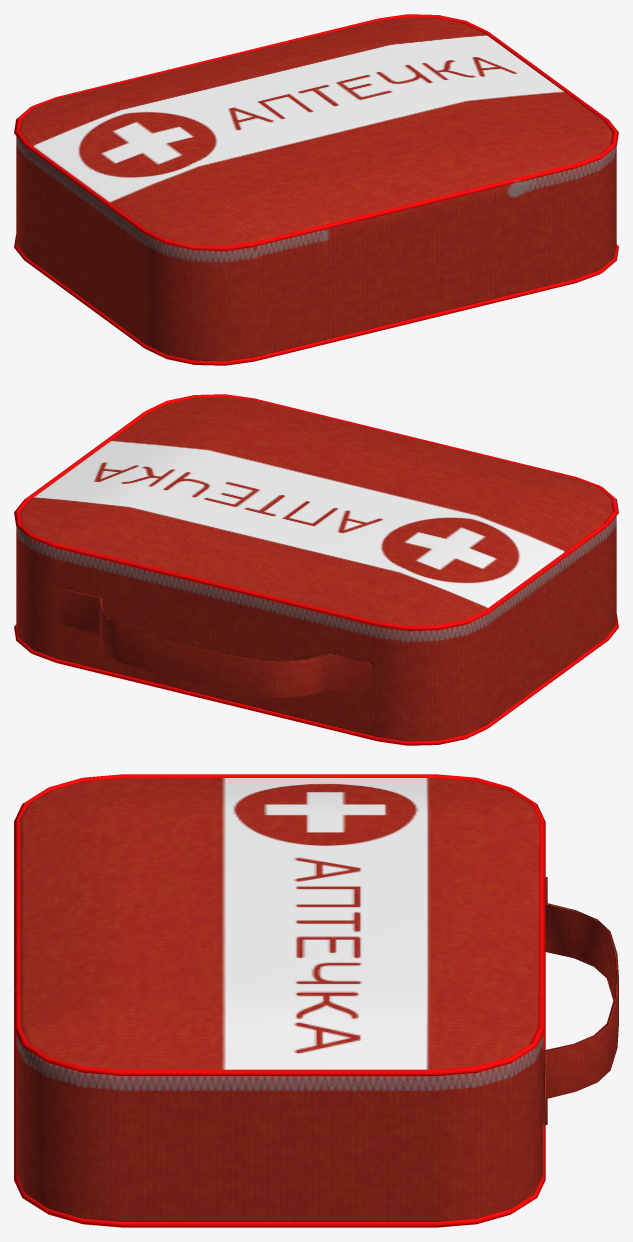
File: Aidkit.fbx
3 views of the same model, one above another, from view 1: azimuth 30°, elevation 25°; view 2: azimuth 150°, elevation 25°; view 3: azimuth 270°, elevation 25° (orthographic). The views are drawn at different scales.
Parts seen in each view (by area): view 1: aidkit; view 2: aidkit; view 3: aidkit.
Part boxes in pixels (x1=…): aidkit: x1=14, y1=14, x2=618, y2=365; aidkit: x1=14, y1=394, x2=618, y2=745; aidkit: x1=14, y1=774, x2=618, y2=1227.
Size of the model in its own units: 0.3843 by 0.1065 by 0.3282.
